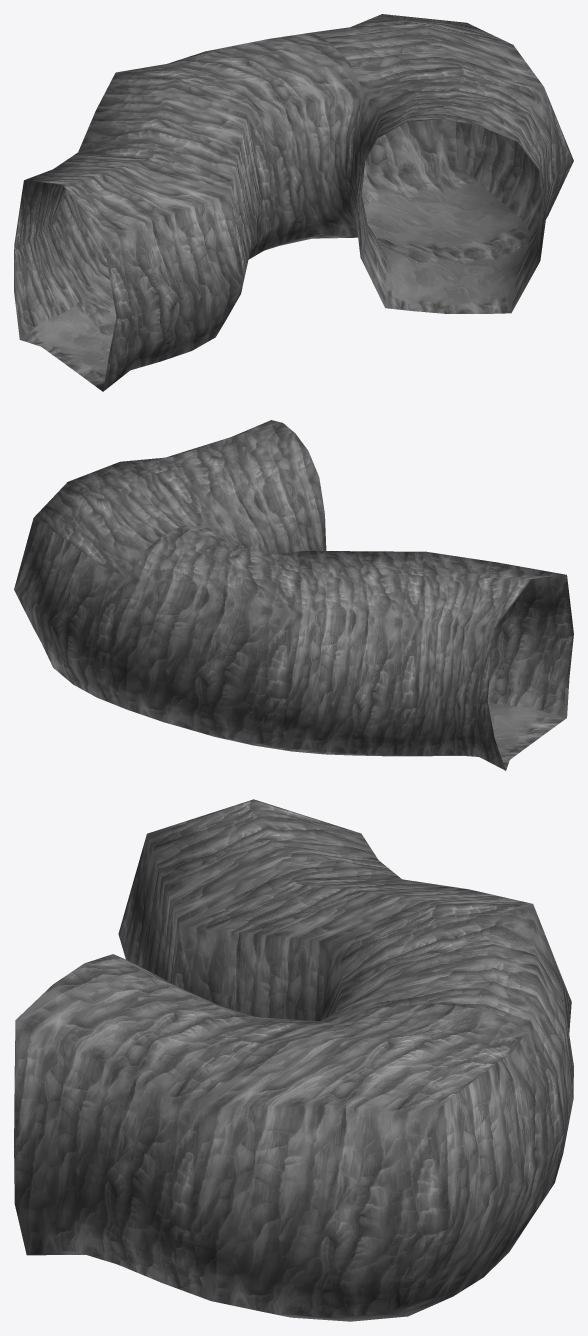
File: SWORDLIGHT20_PS-AREA01_07.fbx
3 views of the same model, one above another, from view 1: azimuth 30°, elevation 25°; view 2: azimuth 150°, elevation 25°; view 3: azimuth 270°, elevation 25° (orthographic). The views are drawn at different scales.
Parts seen in each view (by area): view 1: SWORDLIGHT20_PS-AREA01_07; view 2: SWORDLIGHT20_PS-AREA01_07; view 3: SWORDLIGHT20_PS-AREA01_07.
Part boxes in pixels (bbox=[...]): SWORDLIGHT20_PS-AREA01_07: bbox=[14, 14, 573, 391]; SWORDLIGHT20_PS-AREA01_07: bbox=[14, 420, 573, 770]; SWORDLIGHT20_PS-AREA01_07: bbox=[14, 799, 573, 1321].
Bounding box in the file's own units: 221366 × 94158 × 156652.
Materials: 4 (4 with a texture image).
